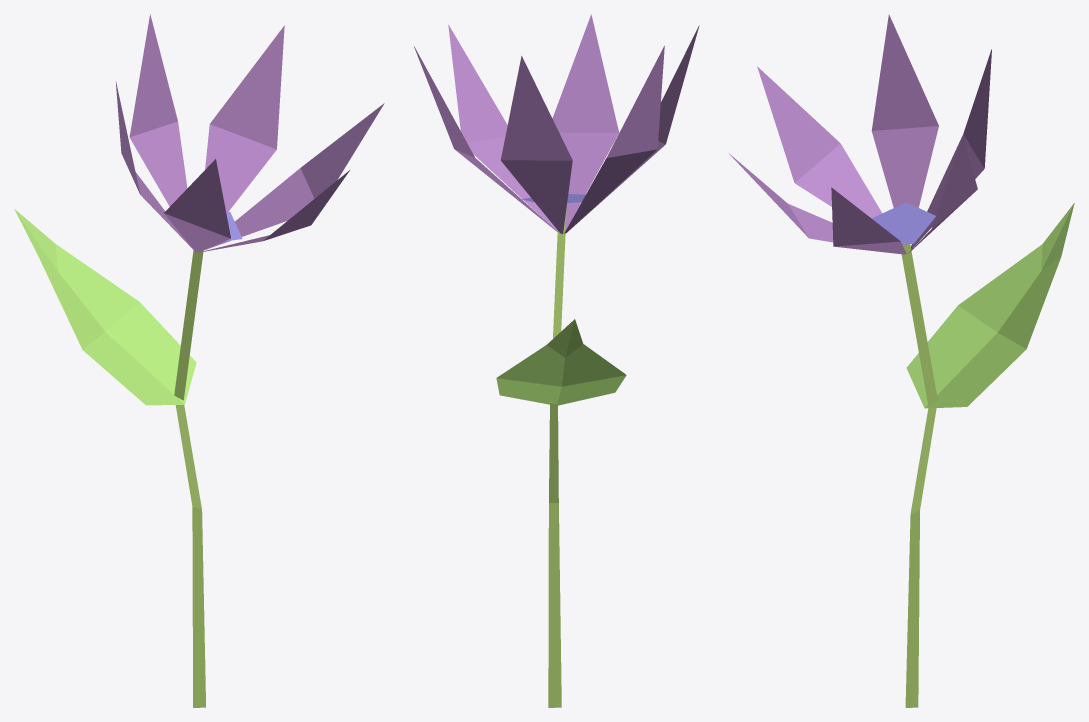
The model's file is Flower_b_TwoS_06.fbx.
3 views of the same model, side by side, from view 1: azimuth 30°, elevation 25°; view 2: azimuth 150°, elevation 25°; view 3: azimuth 270°, elevation 25° (orthographic). The views are drawn at different scales.
Visible parts, largest first — view 1: Flower_b_TwoS_06; view 2: Flower_b_TwoS_06; view 3: Flower_b_TwoS_06.
Part boxes in pixels (bbox=[...]): Flower_b_TwoS_06: bbox=[14, 14, 384, 707]; Flower_b_TwoS_06: bbox=[414, 14, 699, 707]; Flower_b_TwoS_06: bbox=[729, 14, 1074, 707].
Size of the model in its own units: 0.208 by 0.5348 by 0.2568.
